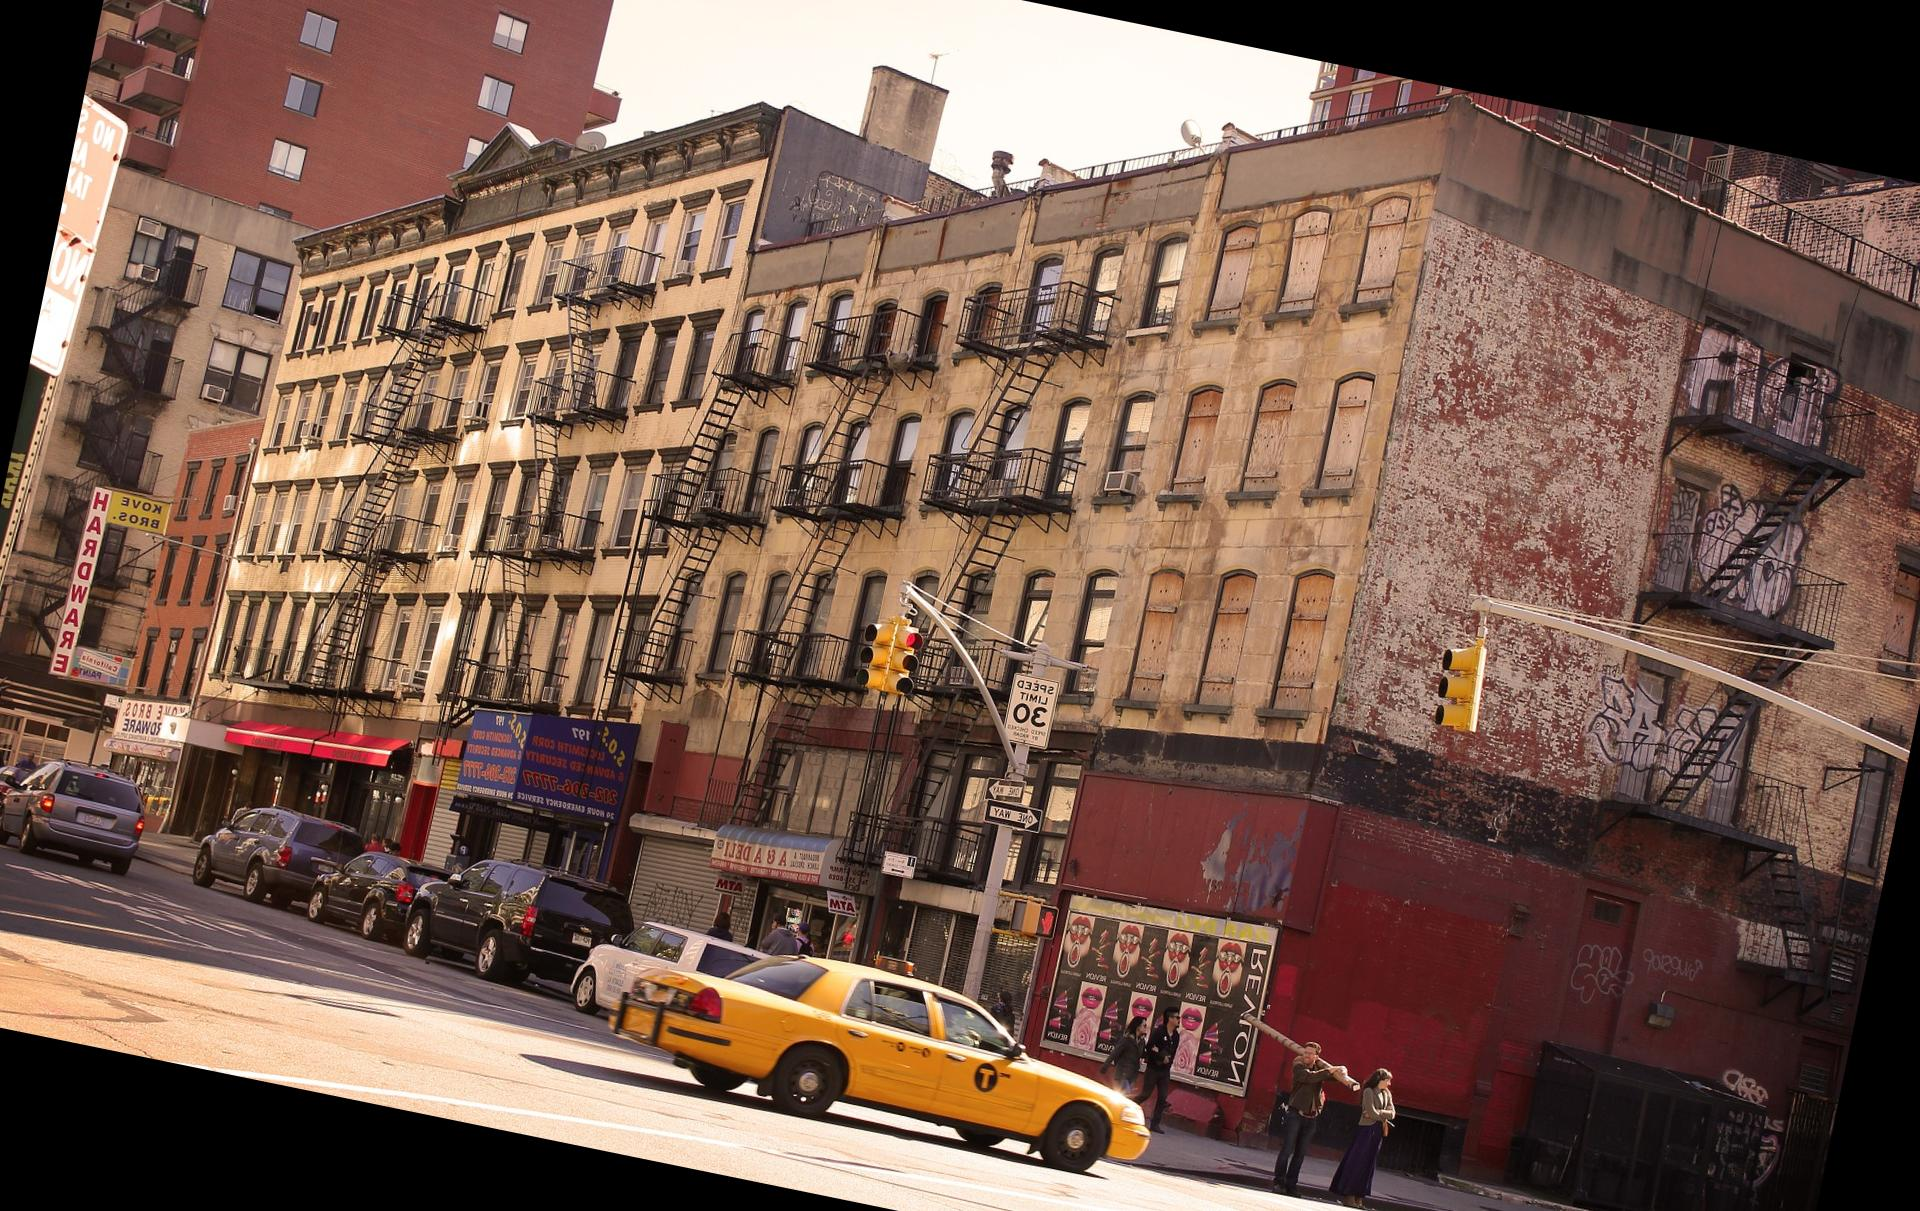taxi: (608, 931, 1150, 1172)
